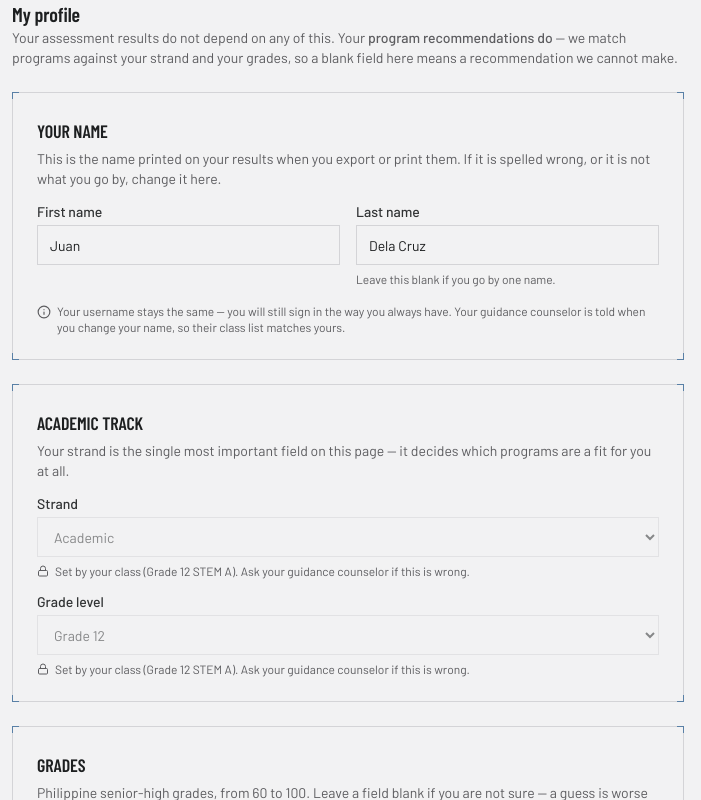
Test: changing your own name › renders the server’s field error against the field that caused it
Clear the field labelled "First name" at (188, 245), box top-left (37, 225), bottom-right (340, 265)
(page scrolled)
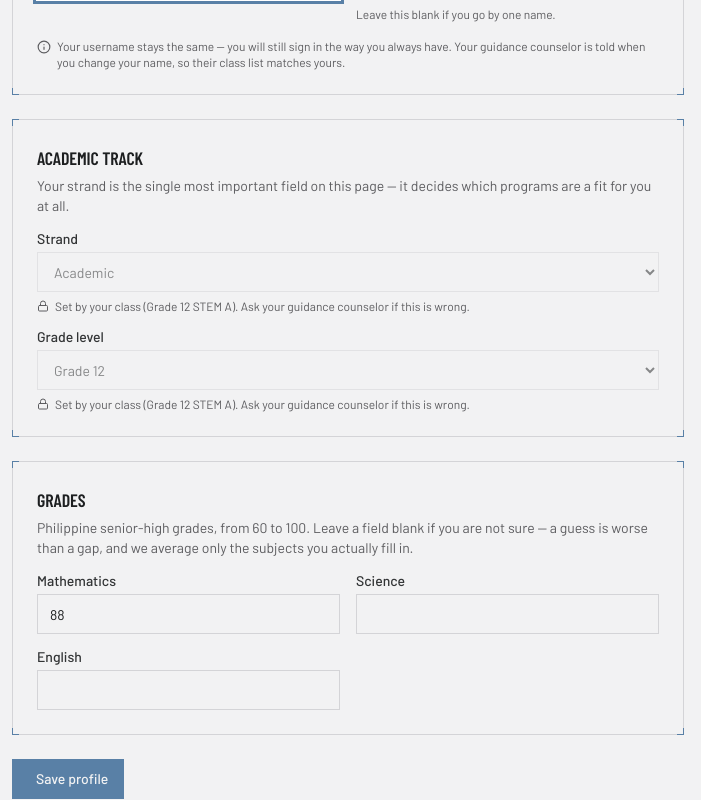
Click the button "Save profile" at (68, 779), box top-left (12, 759), bottom-right (124, 799)
(page scrolled)
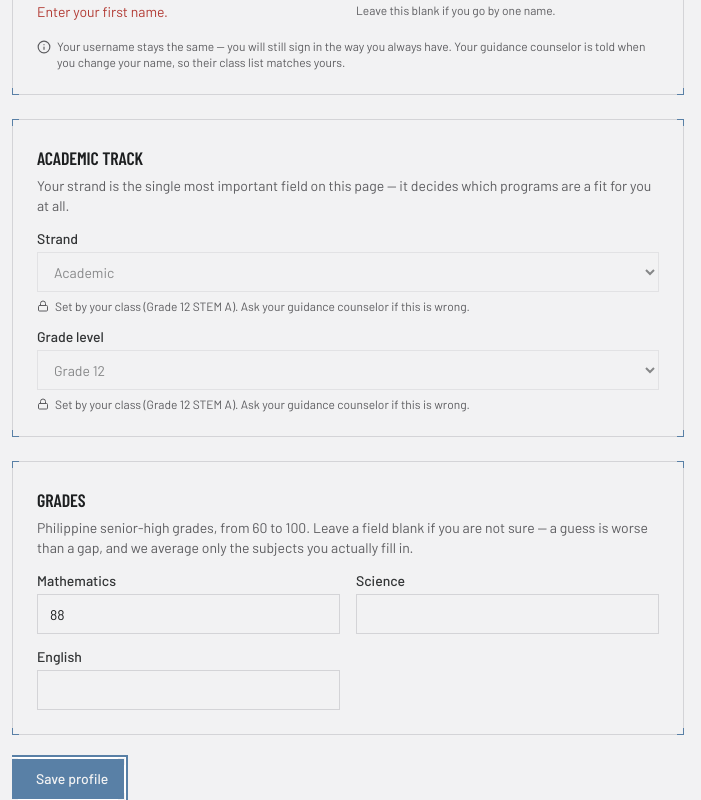
Expected: the text "Enter your first name." is shown, top-left (37, 3), bottom-right (168, 20)
